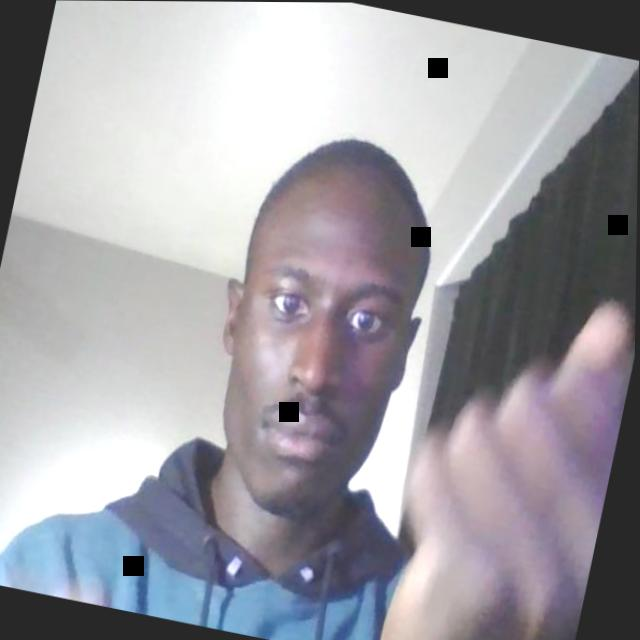NO-Mask: (196, 228, 424, 534)
